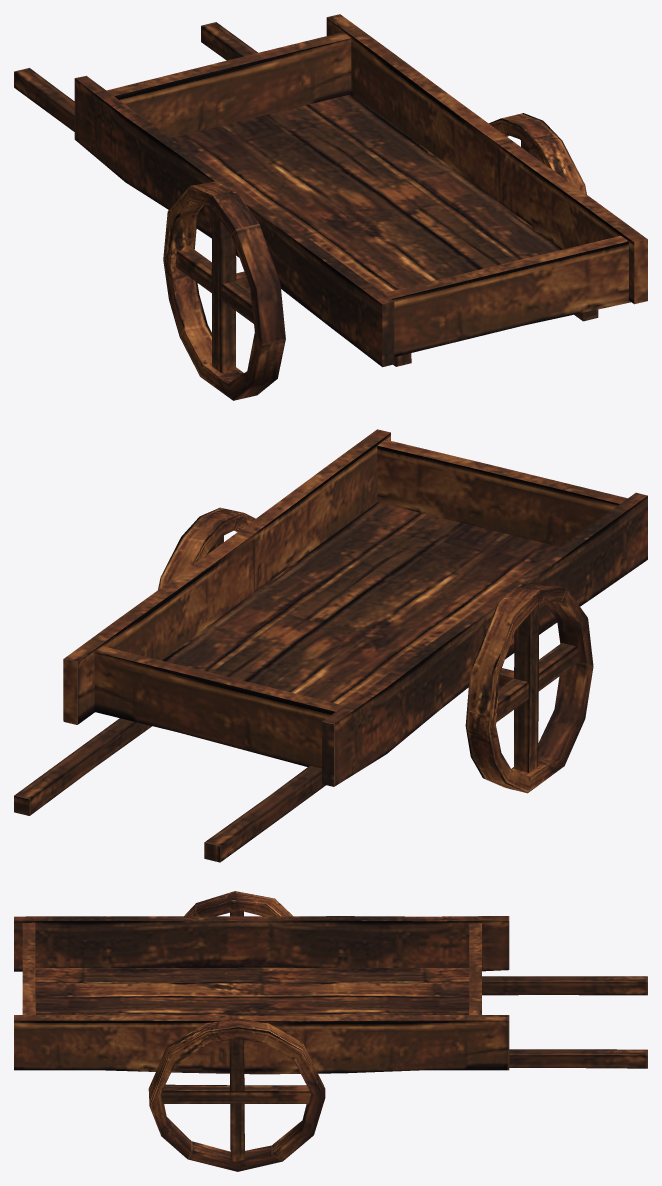
File: barrow.FBX
The picture shows the model from 3 angles, top to bottom: view 1: azimuth 30°, elevation 25°; view 2: azimuth 150°, elevation 25°; view 3: azimuth 270°, elevation 25°; orthographic projection. The views are drawn at different scales.
Parts seen in each view (by area): view 1: barrow; view 2: barrow; view 3: barrow.
Part boxes in pixels (box(x1,y1,x2,y2)): barrow: box(14, 14, 647, 400); barrow: box(14, 429, 647, 862); barrow: box(14, 891, 647, 1171).
Bounding box in the file's own units: 265 × 541 × 144.
